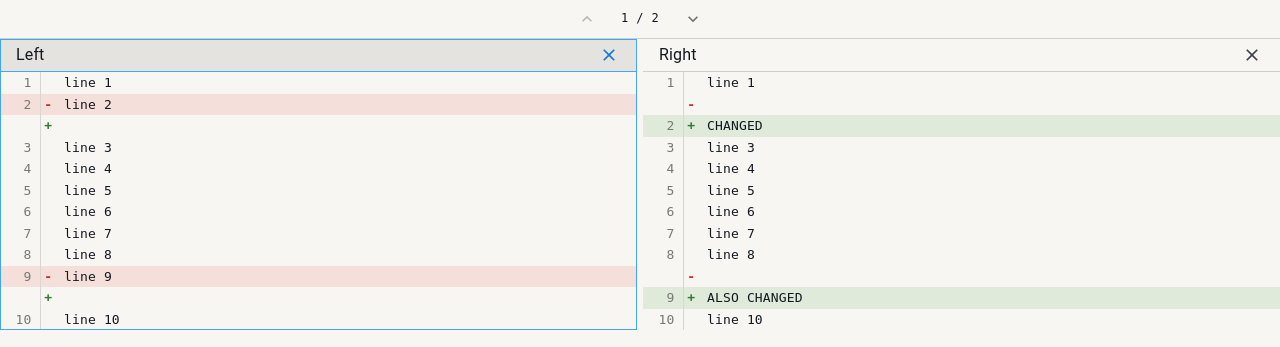
Test case: DiffCodeViewer › arrow navigation › should navigate to next change when clicking down arrow
This screenshot has width=1280, height=347.
Expected: the text "1 / 2" is shown, [621,11,659,25]
// Click the down arrow
Click the button with test id "KeyboardArrowDownIcon" at (693, 19), box [678,4,708,34]
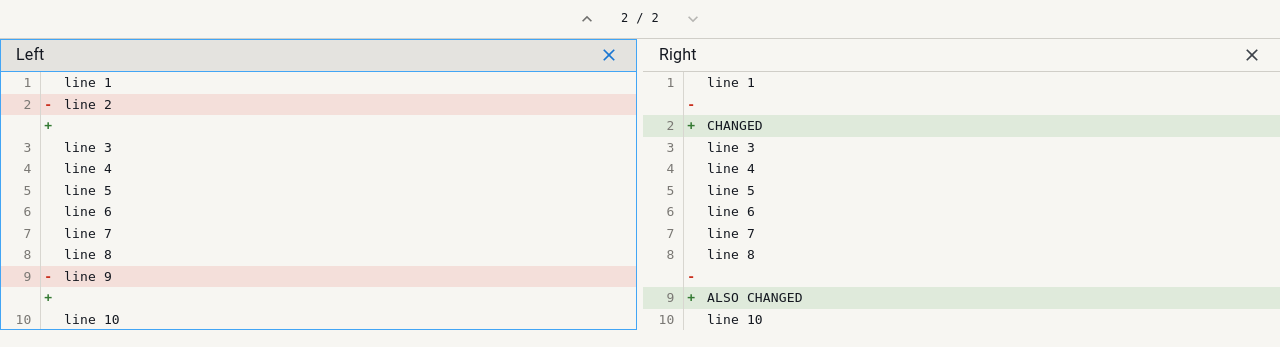
Now the text "2 / 2" is shown, box [621,11,659,25]
